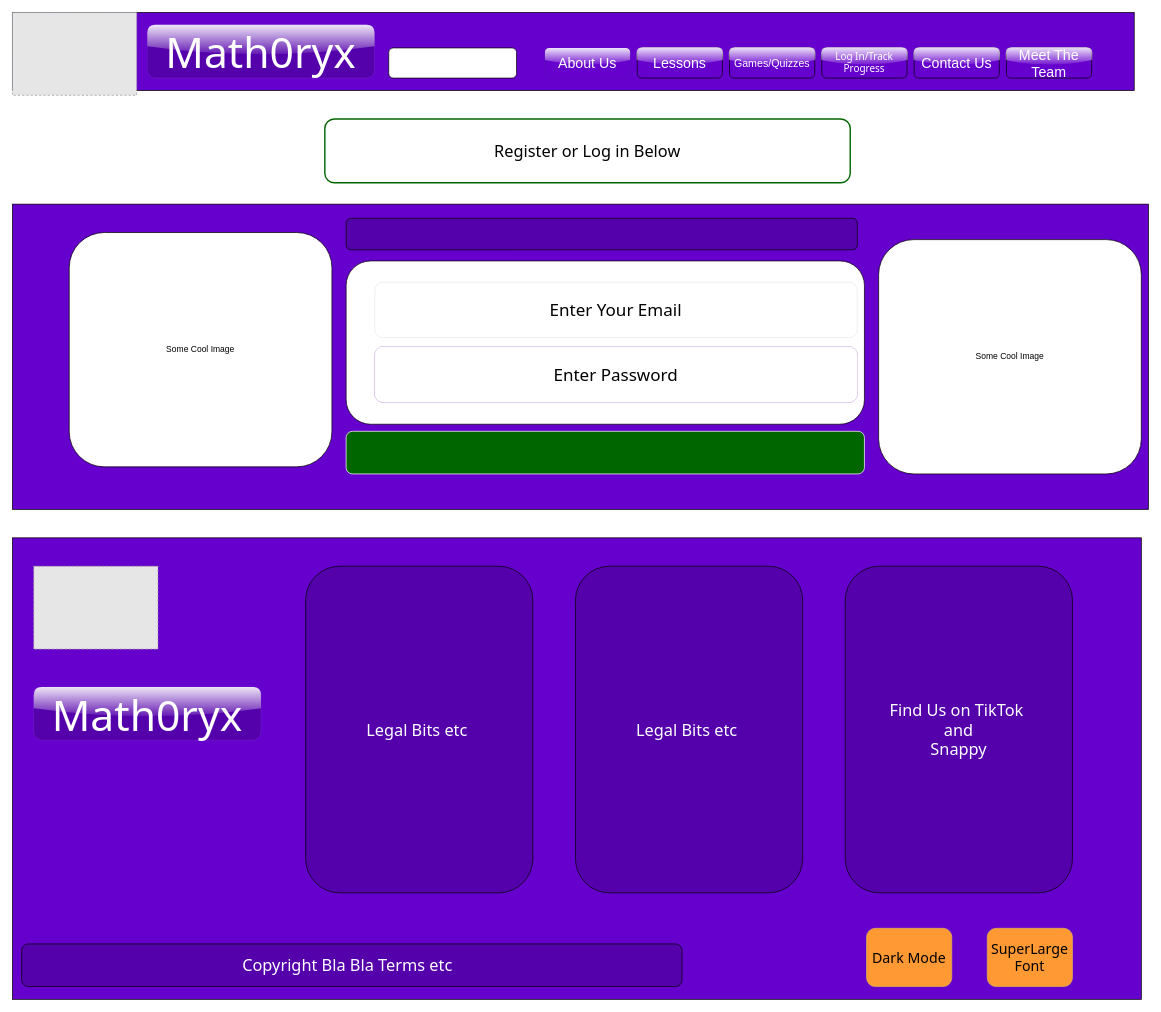
The diagram is 1161 pixels wide and 1012 high, and some of its shapes have lost their labels. Grey dashed boxes stand in for pictures. Each missing label, with the centre of its shape:
Click here if you forgot your Log In Details: the point at 604,452
Learn with 100% certainty: the point at 601,234
Search Bar: the point at 452,62
